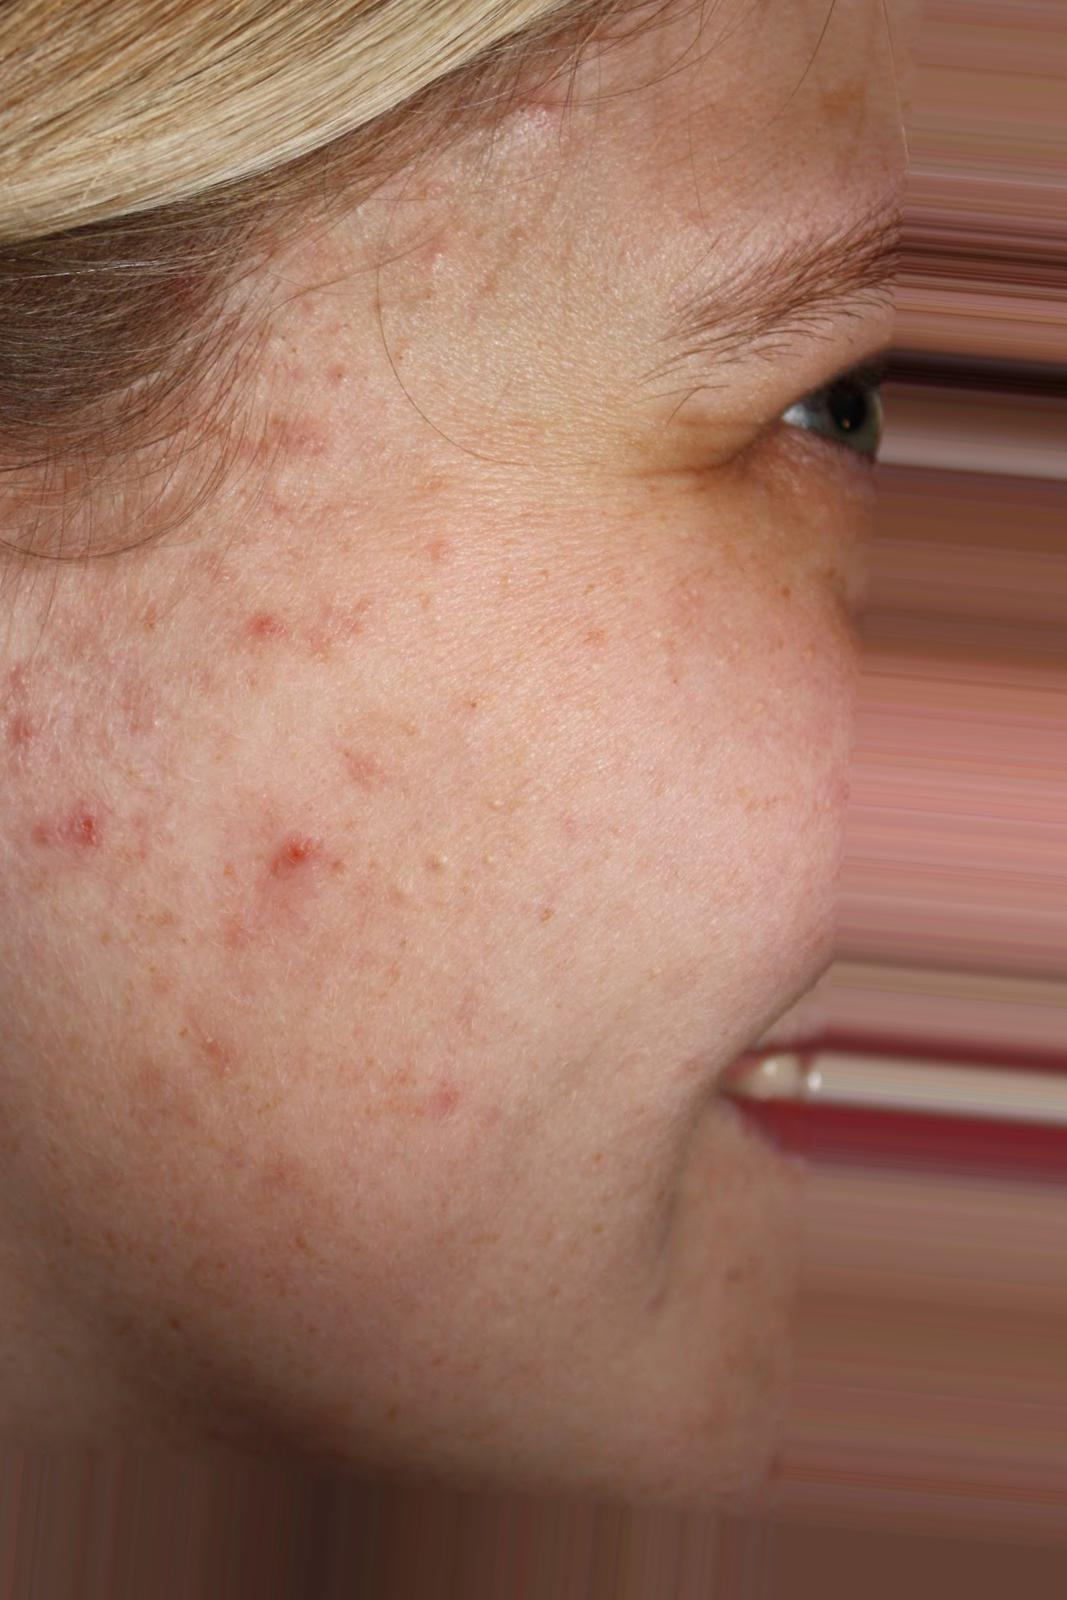Acne: (0, 676, 116, 869), (226, 771, 349, 886), (237, 596, 399, 673), (307, 701, 423, 806), (497, 82, 589, 212), (442, 682, 549, 793), (226, 382, 336, 489), (176, 962, 256, 1082), (126, 682, 223, 776), (562, 601, 656, 679), (401, 1057, 473, 1143)
